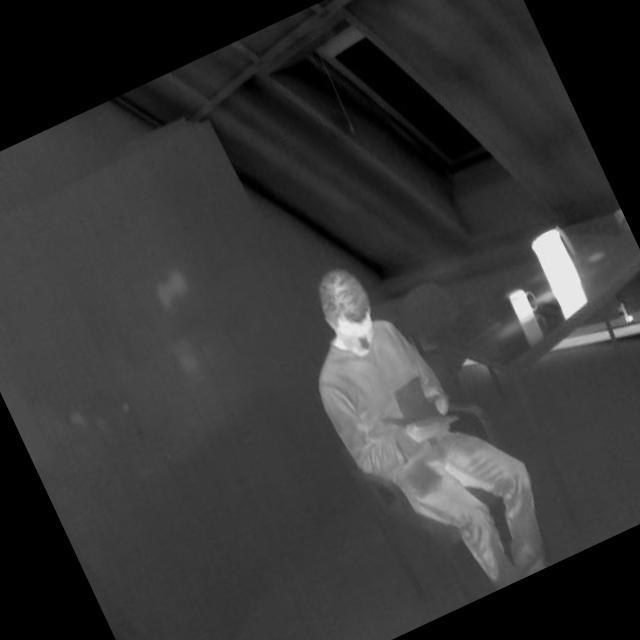person: (268, 224, 576, 626)
